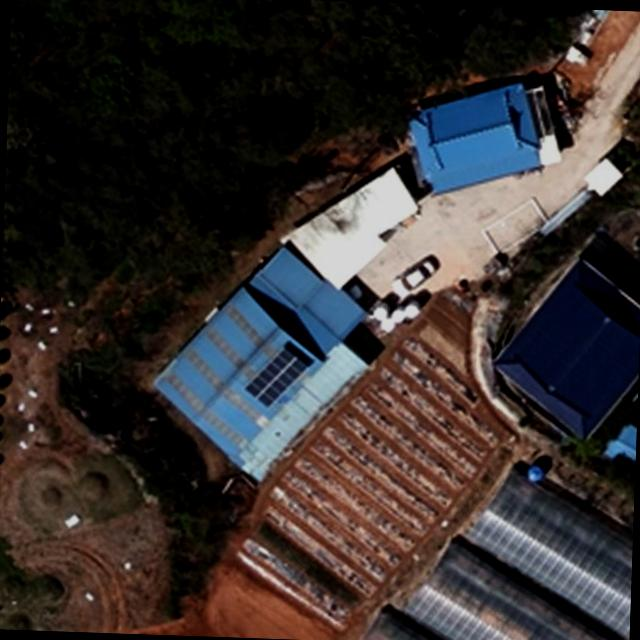solar: (240, 344, 312, 409)
